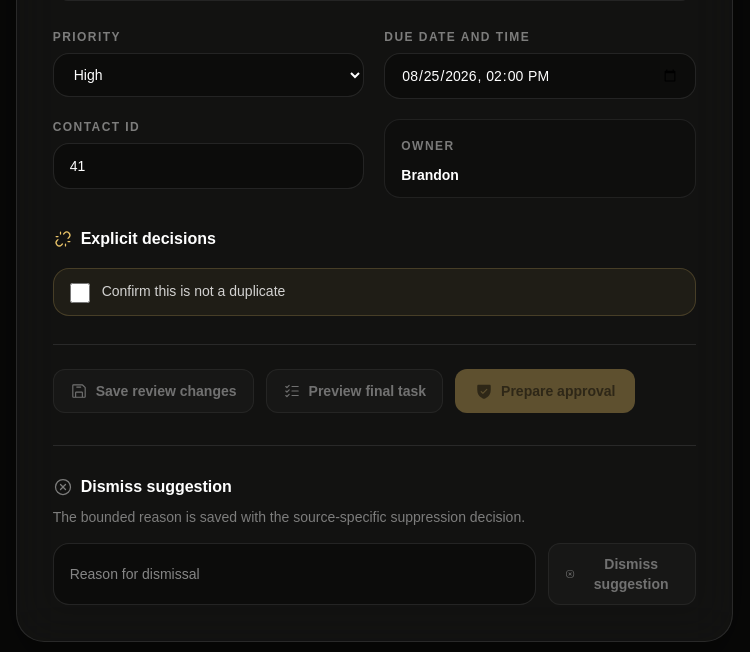
Scenario: TaskSuggestionsWorkspace › blocks approval when a late duplicate requires a version-bound confirmation
(page scrolled)
Expected: the button "Prepare approval" is disabled, [455, 369, 636, 413]
Click the checkbox labelled "Confirm this is not a duplicate" at (80, 293), box [70, 283, 90, 303]
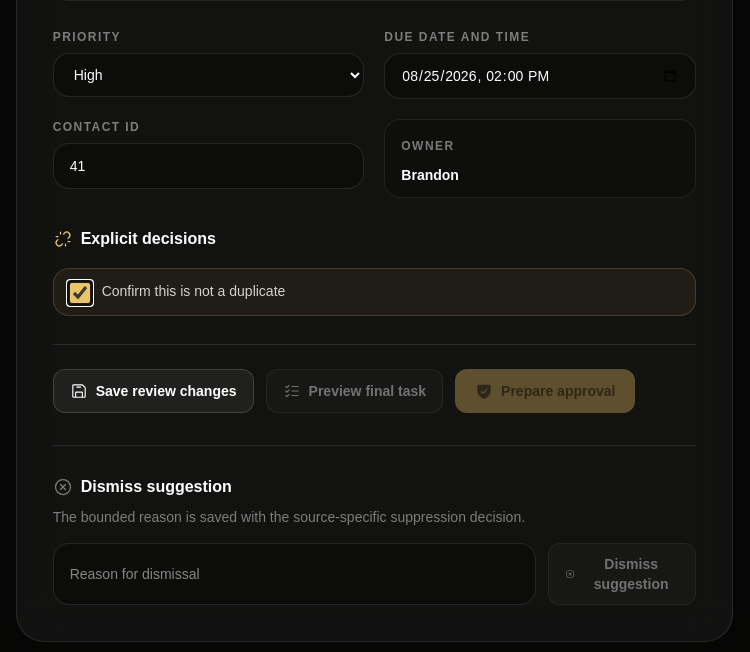
Expected: the button "Save review changes" is enabled, [53, 369, 254, 413]
